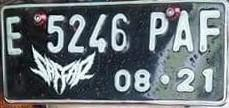2: (64, 13, 88, 52)
4: (86, 13, 110, 54)
5: (44, 12, 66, 54)
6: (109, 12, 134, 55)
A: (170, 9, 196, 52)
E: (5, 15, 25, 56)
F: (197, 7, 222, 54)
P: (147, 9, 171, 52)
